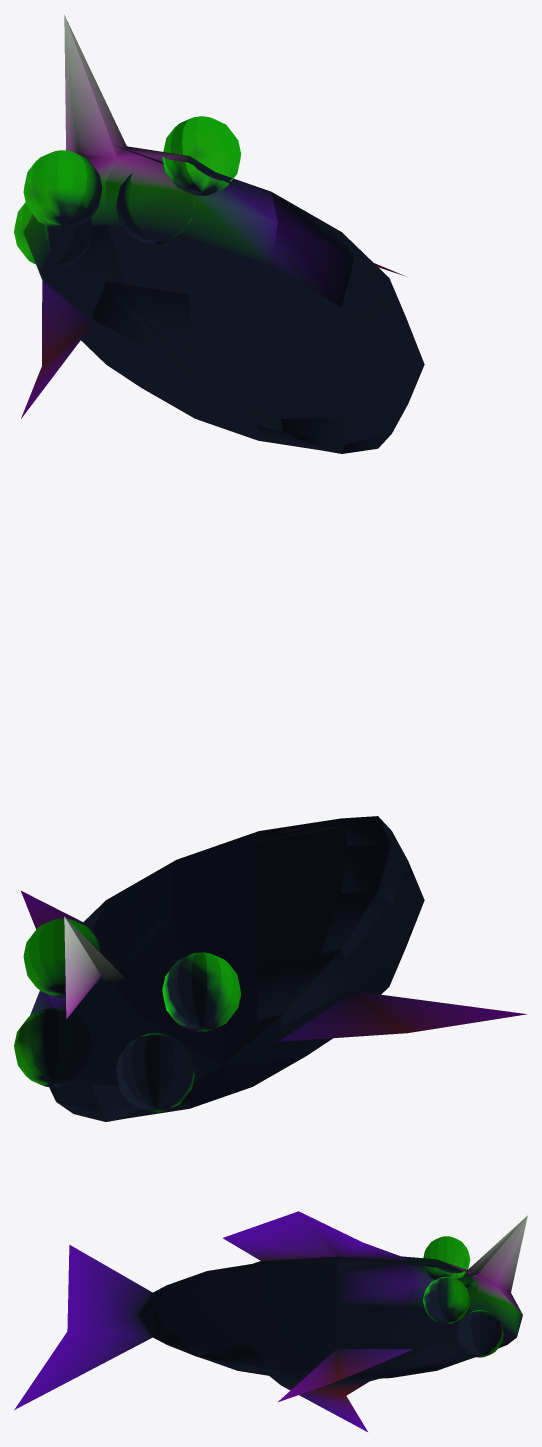
The model's file is nocter.glb.
The picture shows the model from 3 angles, top to bottom: view 1: azimuth 30°, elevation 25°; view 2: azimuth 150°, elevation 25°; view 3: azimuth 270°, elevation 25°; orthographic projection. The views are drawn at different scales.
Visible parts, largest first — view 1: Floop; view 2: Floop; view 3: Floop.
Boxes of the visible parts, bbox=[...] form: Floop: bbox=[14, 15, 424, 453]; Floop: bbox=[14, 816, 526, 1121]; Floop: bbox=[14, 1211, 527, 1431].
Bounding box in the file's own units: 1.03 × 0.7156 × 1.51.
